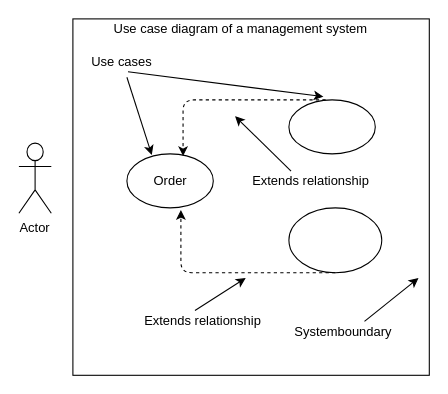
The diagram is 448 pixels wide and 394 high, and some of its shapes have lost their labels. The centre of each missing label's shape, as x and y in pixels:
"NormalOrder" goes at [335,240].
"SpecialOrder" goes at [331,126].
